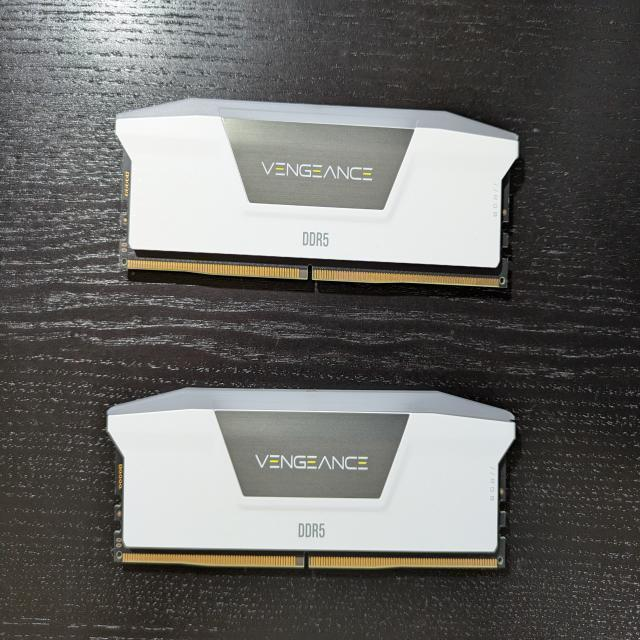RAM: (115, 96, 520, 290), (106, 386, 516, 570)
